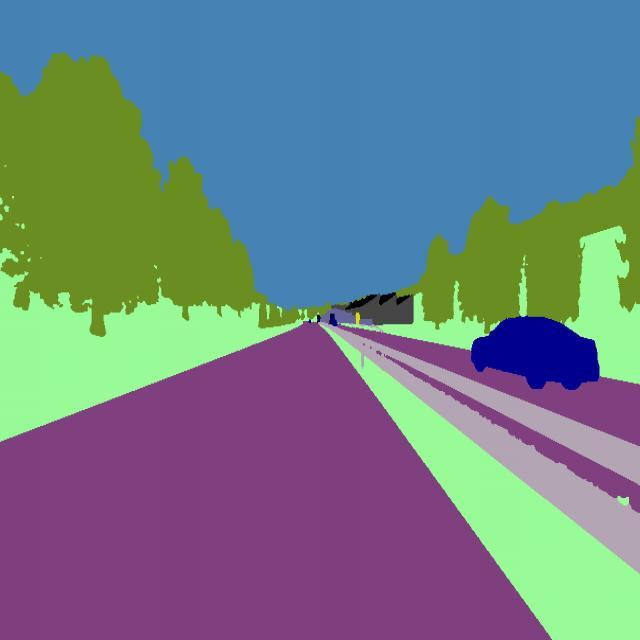safe: (466, 310, 608, 400)
